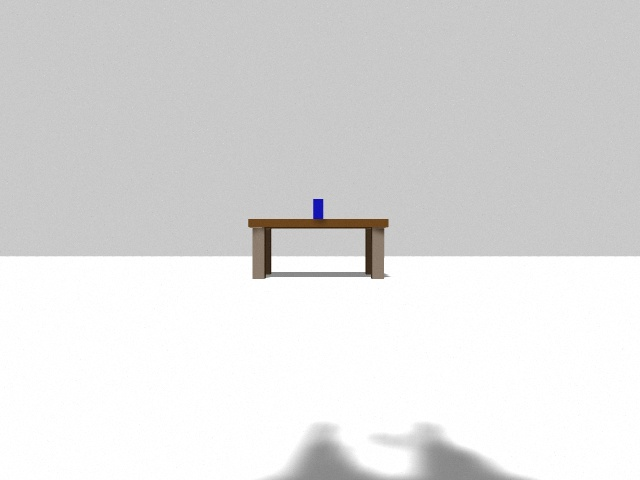blue_cube: (313, 199, 323, 219)
